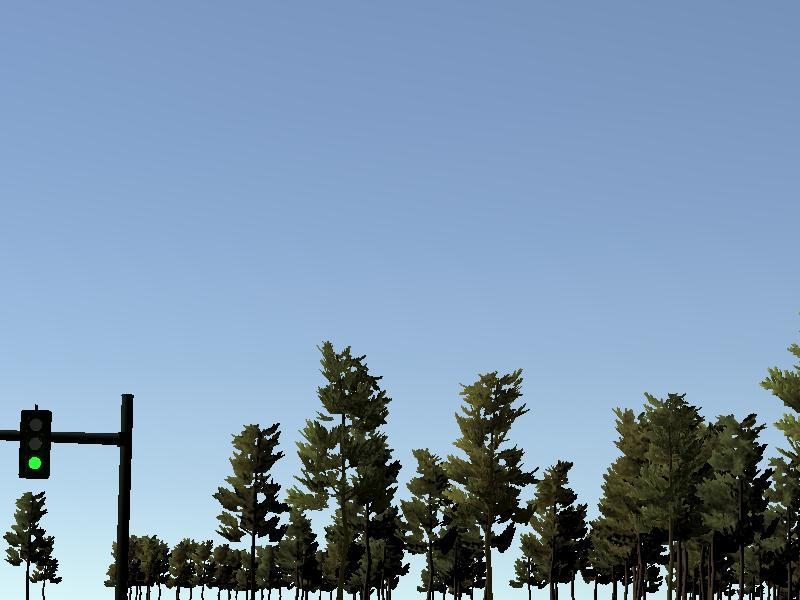Green: (21, 412, 49, 476)
